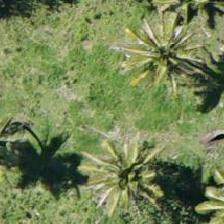coconut_tree: (79, 129, 169, 219), (126, 7, 216, 97)
